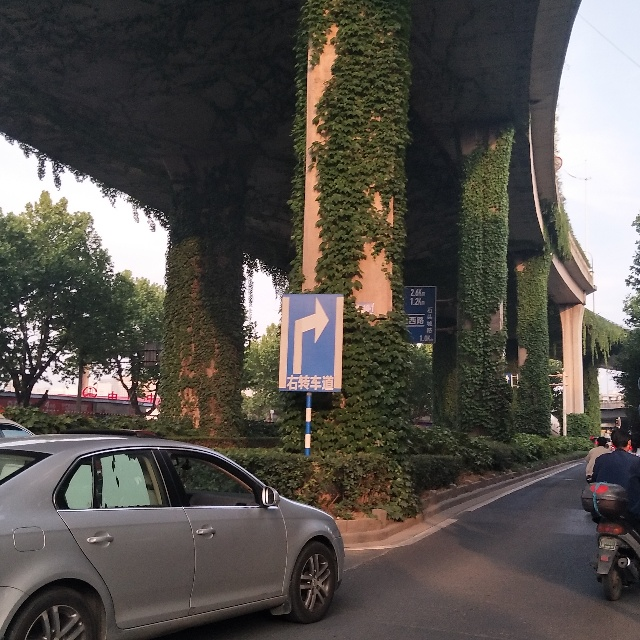right: (284, 290, 336, 376)
